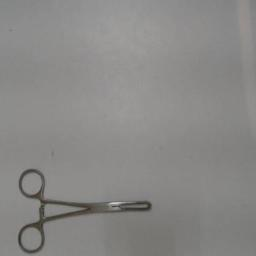Allis Tissue Forceps: (16, 162, 154, 254)
